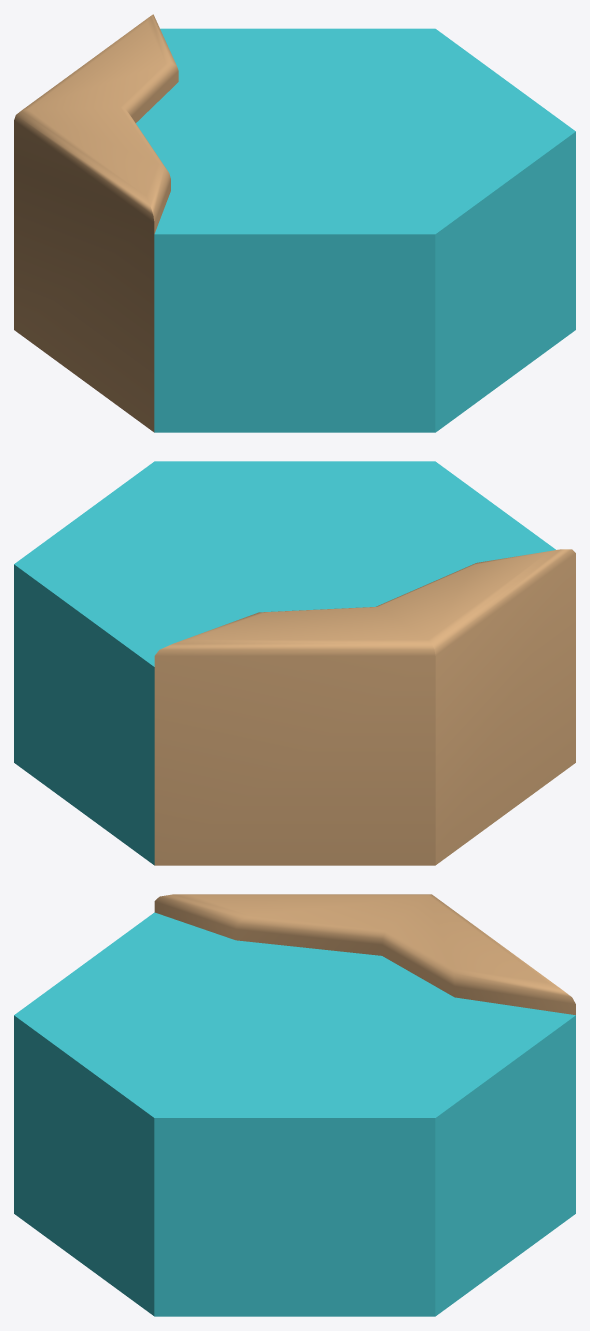
File: hex_sand_waterA.glb
The picture shows the model from 3 angles, top to bottom: view 1: azimuth 30°, elevation 25°; view 2: azimuth 150°, elevation 25°; view 3: azimuth 270°, elevation 25°; orthographic projection.
Parts seen in each view (by area): view 1: hex_sand_waterA; view 2: hex_sand_waterA; view 3: hex_sand_waterA.
Part boxes in pixels (box(x1,y1,x2,y2)): hex_sand_waterA: box(14, 14, 575, 432); hex_sand_waterA: box(14, 461, 575, 865); hex_sand_waterA: box(14, 894, 575, 1316).
Size of the model in its own units: 2 by 1 by 2.31.
